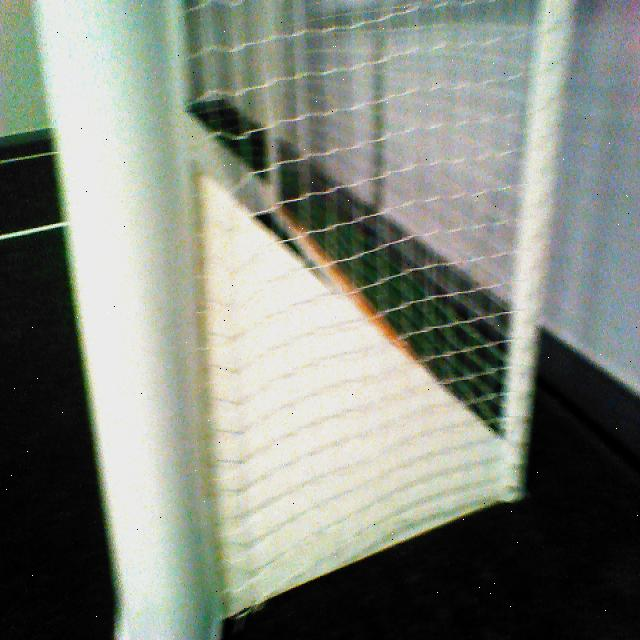goalpost: (35, 0, 222, 636)
